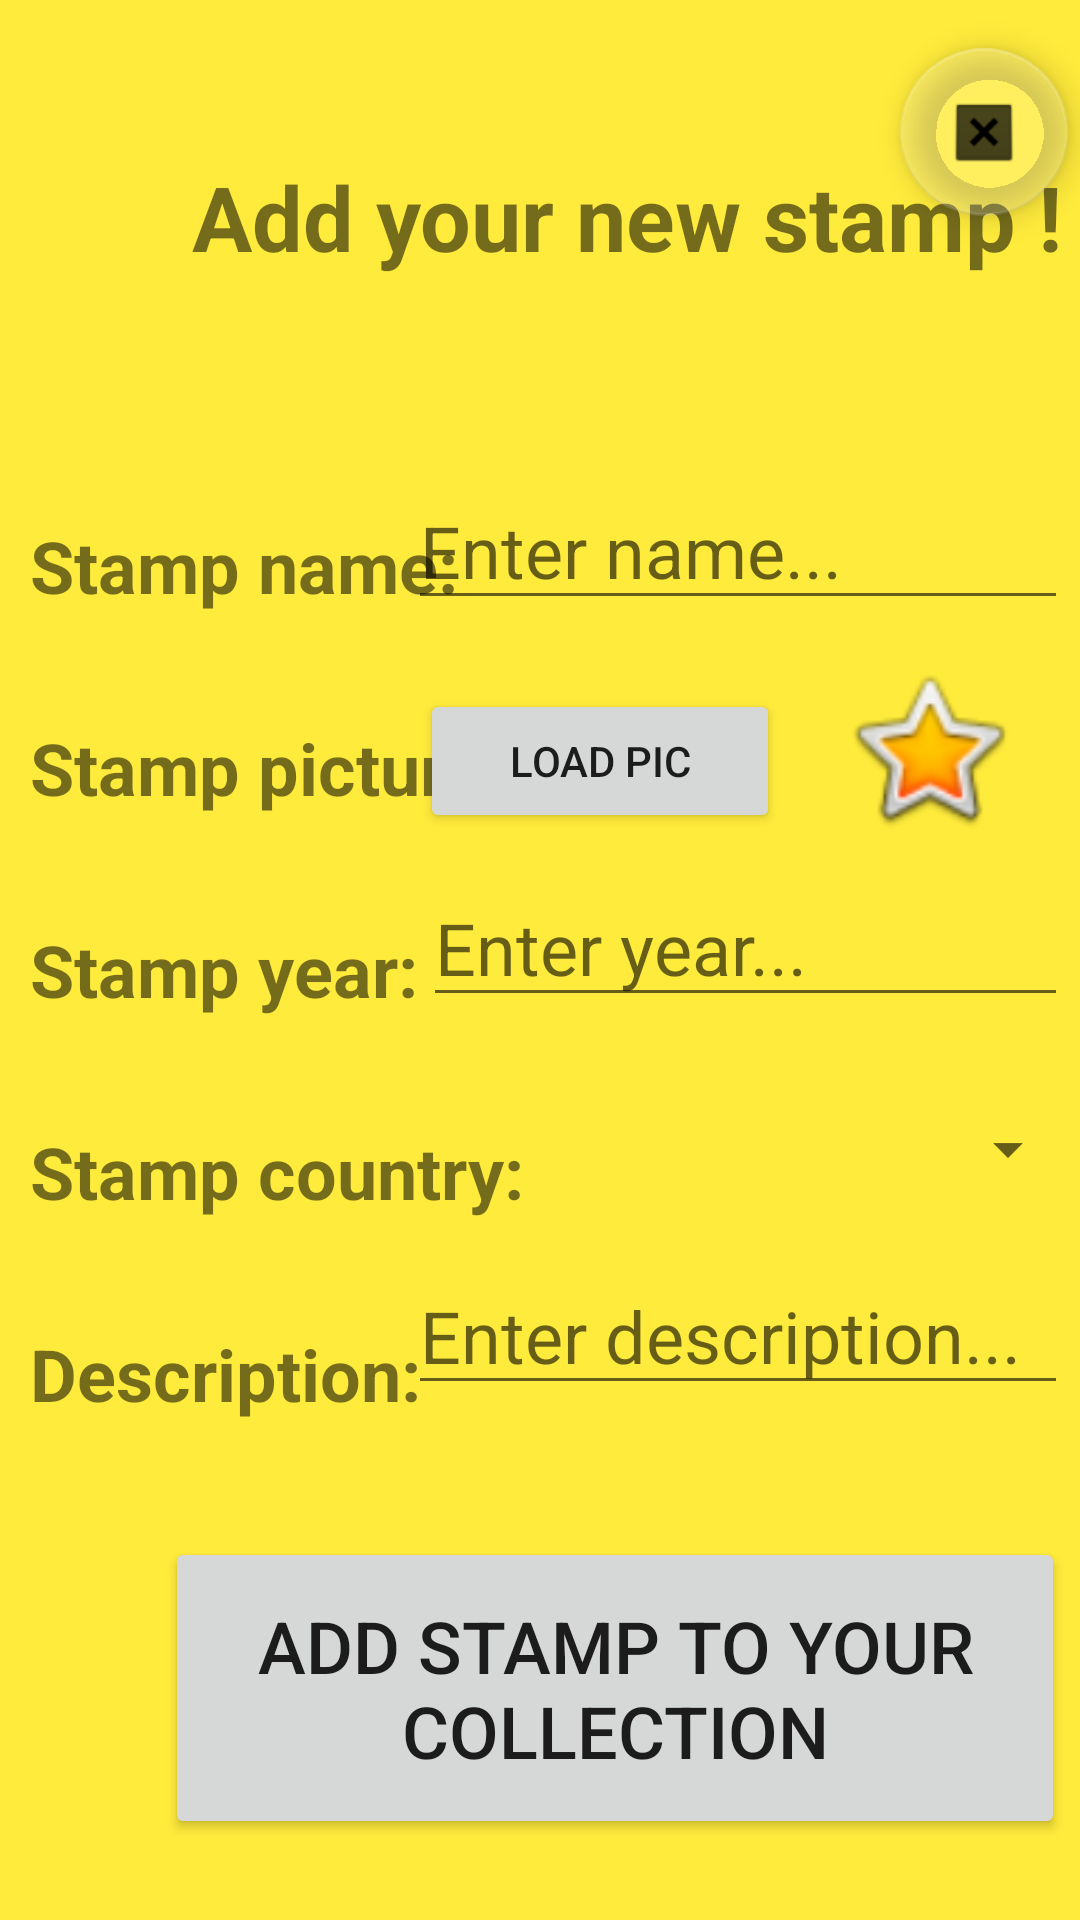

Locate icon controls on the screen. Image size 1080w x 1920h, boxes as (x1, y1, x2, y2).
star on: (855, 677, 1005, 824)
